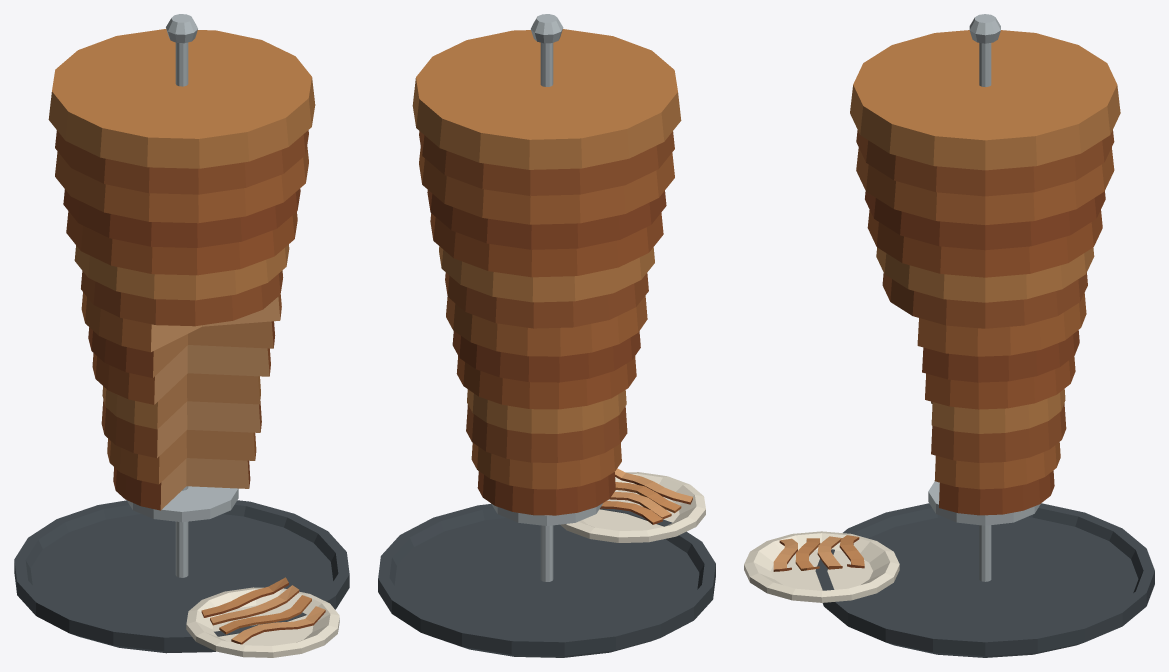
Rendered from doner-spit.glb.
3 renders of one model, left to right at view 1: azimuth 30°, elevation 25°; view 2: azimuth 150°, elevation 25°; view 3: azimuth 270°, elevation 25°, orthographic.
Parts seen in each view (by area): view 1: Doner spit; view 2: Doner spit; view 3: Doner spit.
Part boxes in pixels (x1=…): Doner spit: x1=14, y1=14, x2=349, y2=657; Doner spit: x1=378, y1=14, x2=715, y2=657; Doner spit: x1=744, y1=14, x2=1154, y2=657.
Size of the model in its own units: 0.536 by 1 by 0.649.
